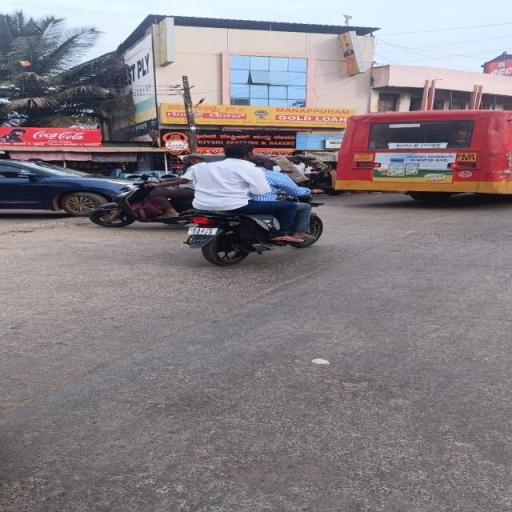bike: (182, 140, 328, 267)
numberplate: (188, 226, 216, 238)
withouthelmet: (225, 143, 254, 159), (255, 154, 271, 167)
